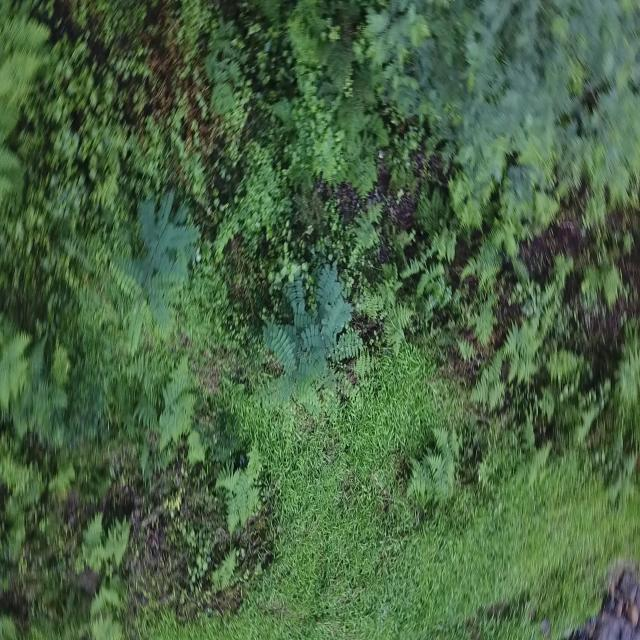Mysore-Thorn-Weed: (258, 265, 355, 414), (121, 194, 192, 331)
